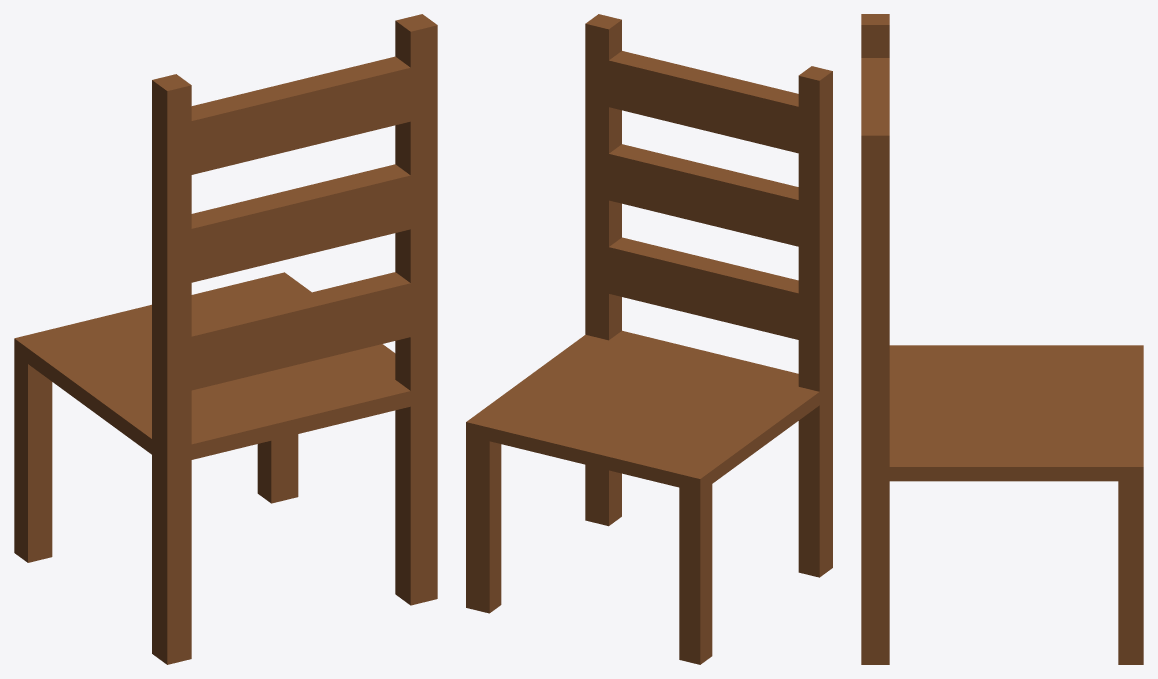
Rendered from Chair.fbx.
3 views of the same model, side by side, from view 1: azimuth 30°, elevation 25°; view 2: azimuth 150°, elevation 25°; view 3: azimuth 270°, elevation 25° (orthographic). The views are drawn at different scales.
Parts seen in each view (by area): view 1: Cube; view 2: Cube; view 3: Cube.
Boxes of the visible parts, x1,y1,x2,y2 form: Cube: [14, 14, 437, 664]; Cube: [466, 14, 832, 664]; Cube: [861, 14, 1143, 664].
Bounding box in the file's own units: 41.04 × 83.22 × 40.24.
